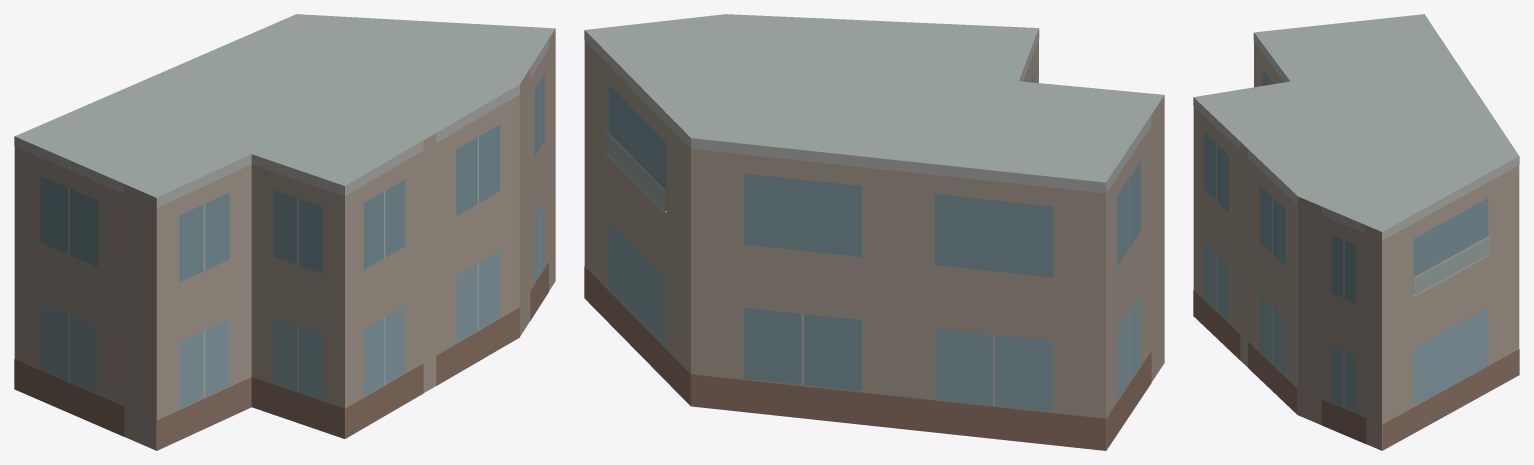
The model's file is survey-upis-32567384.glb.
3 views of the same model, side by side, from view 1: azimuth 30°, elevation 25°; view 2: azimuth 150°, elevation 25°; view 3: azimuth 270°, elevation 25° (orthographic). The views are drawn at different scales.
Visible parts, largest first — view 1: survey-upis-32567384.tmp; view 2: survey-upis-32567384.tmp; view 3: survey-upis-32567384.tmp.
Part boxes in pixels (x1,y1,x2,y2): survey-upis-32567384.tmp: (14, 14, 555, 450); survey-upis-32567384.tmp: (584, 14, 1164, 450); survey-upis-32567384.tmp: (1193, 14, 1519, 450).
Size of the model in its own units: 13.04 by 6.1 by 8.25.
